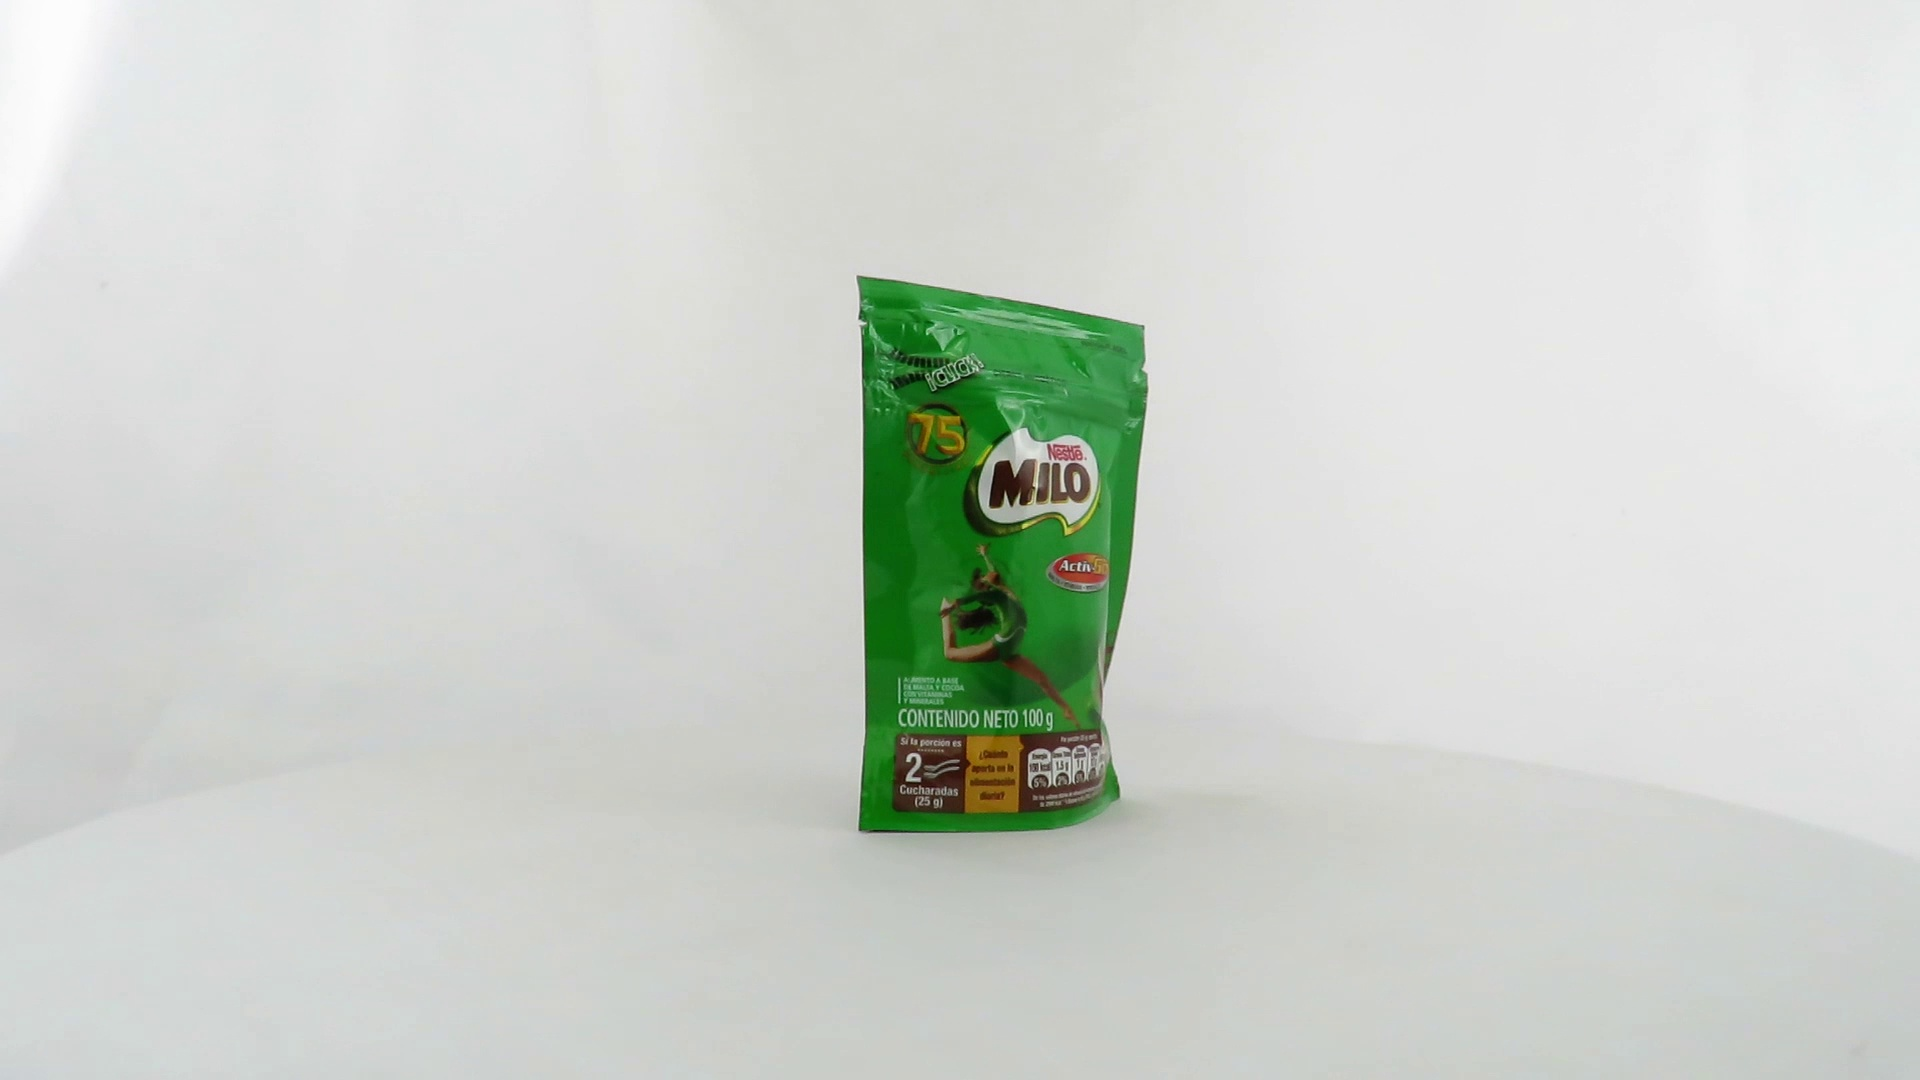COL0170203DYP10000: (851, 270, 1155, 839)
